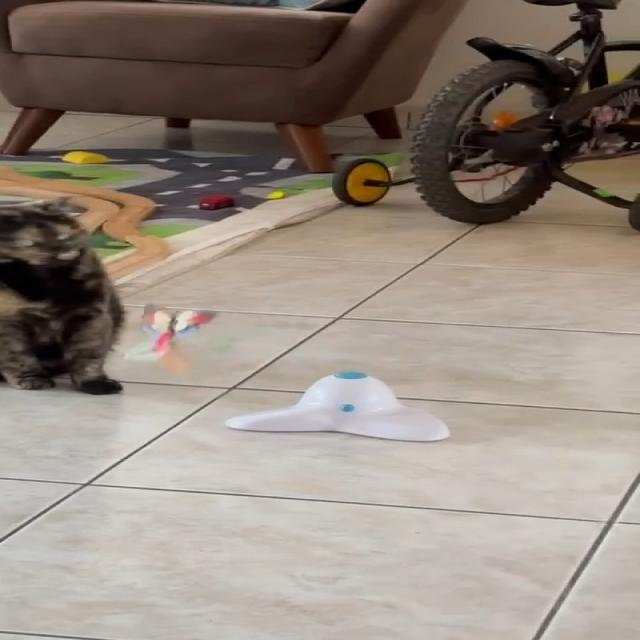authorized: (0, 194, 125, 394)
